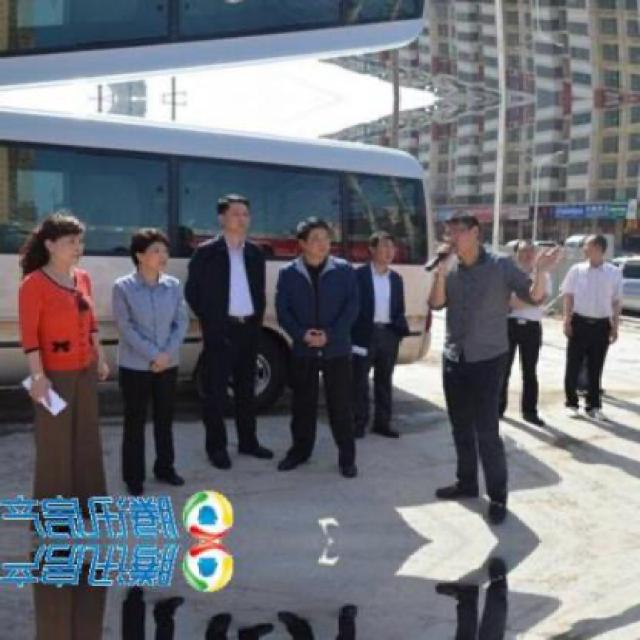sin casco: (66, 219, 212, 346), (17, 195, 126, 318), (433, 199, 507, 319), (218, 189, 272, 260), (565, 220, 620, 278), (362, 238, 408, 286), (292, 214, 324, 282)
